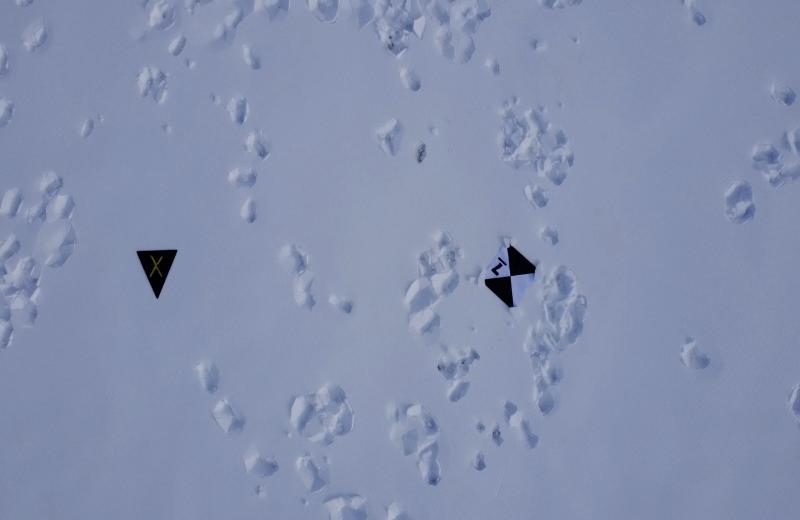Triangle: (136, 245, 177, 299)
